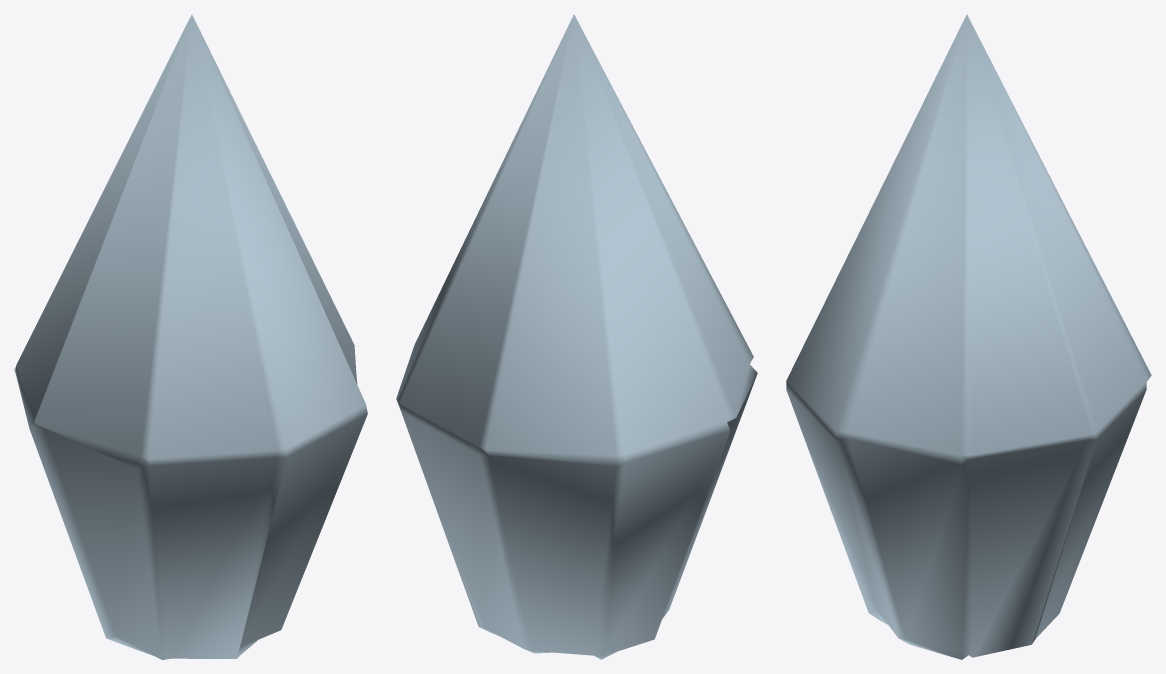
The model's file is crystal_medium.fbx.
3 views of the same model, side by side, from view 1: azimuth 30°, elevation 25°; view 2: azimuth 150°, elevation 25°; view 3: azimuth 270°, elevation 25° (orthographic).
Visible parts, largest first — view 1: krystal; view 2: krystal; view 3: krystal.
Boxes of the visible parts, left/top/right/bottom form: krystal: left=14, top=14, right=367, bottom=659; krystal: left=396, top=14, right=757, bottom=659; krystal: left=786, top=14, right=1151, bottom=659.
Size of the model in its own units: 0.1623 by 0.2981 by 0.1622.
